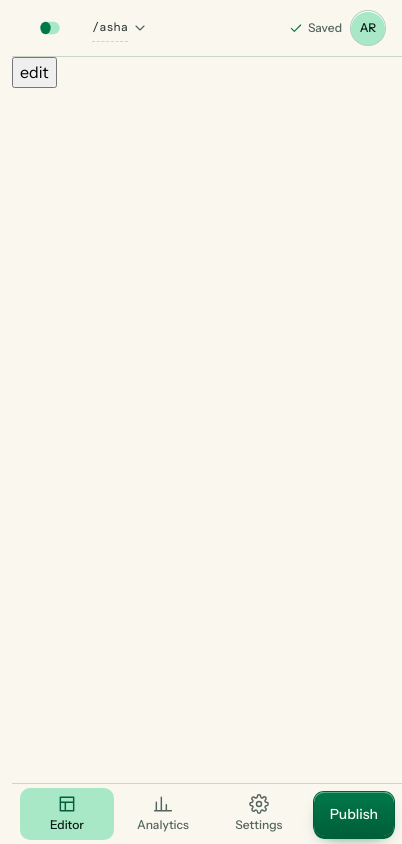
Scenario: AppShell › offers the page address in a menu
The image size is (402, 844).
What coordinates should you click on to do the following:
click the button with class "addr-chip"
I would click on:
 (118, 28)
Its box is [80,6,156,50].
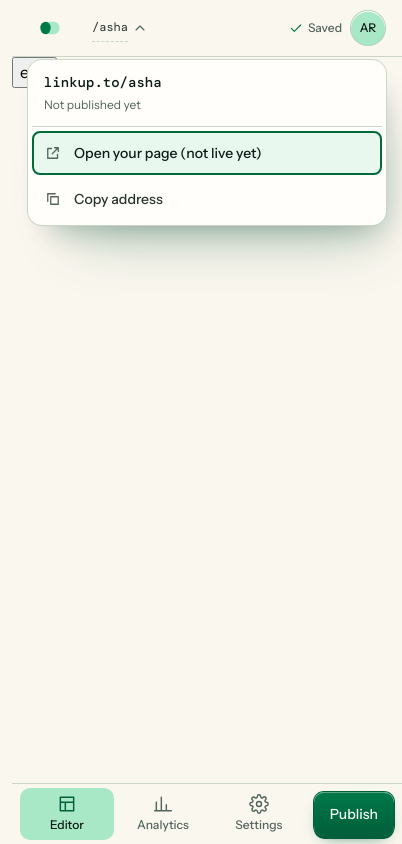
Now the text with class "menu__sub" reads "Not published yet", box [44,97,141,112]
